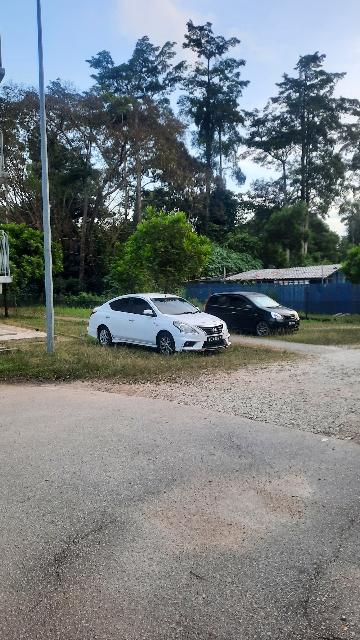License_Plate: (205, 335, 227, 343)
car: (88, 293, 234, 358), (202, 288, 302, 338)
